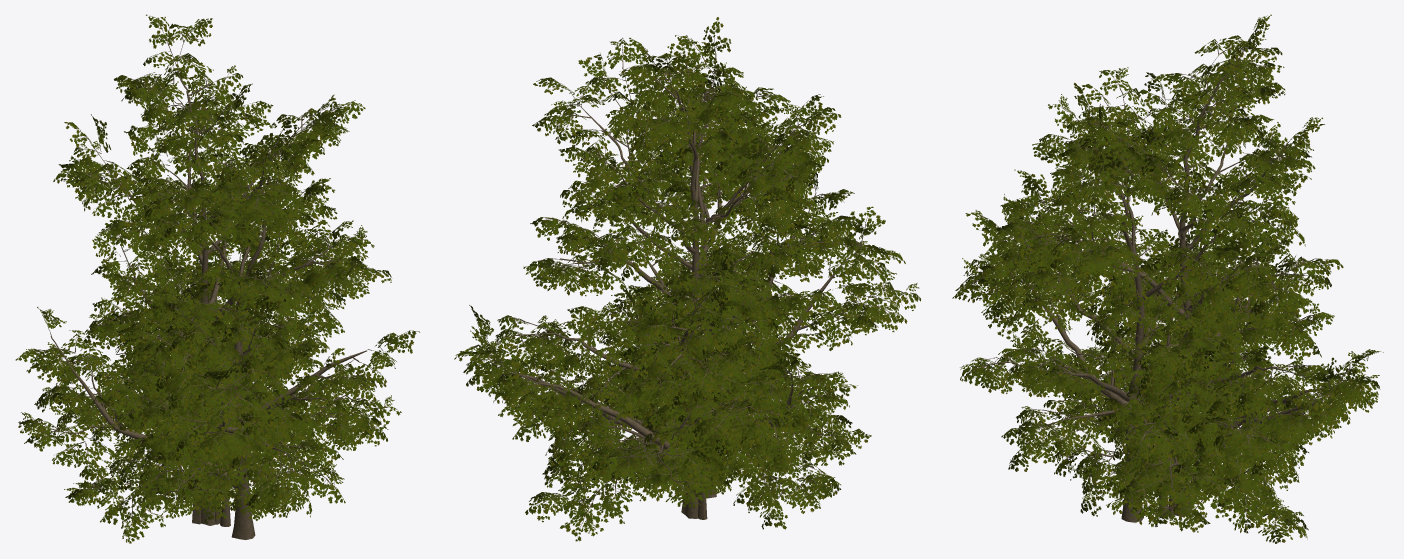
File: garden_maples.glb
3 renders of one model, left to right at view 1: azimuth 30°, elevation 25°; view 2: azimuth 150°, elevation 25°; view 3: azimuth 270°, elevation 25°, orthographic. The views are drawn at different scales.
Parts seen in each view (by area): view 1: Acer_large_2_LOD1_Cluster_Mat_0, Acer_large_1_LOD1_Cluster_Mat_0, Acer_medium_1_LOD1_Cluster_Mat_0, Acer_medium_2_LOD1_Cluster_Mat_0, Acer_large_1_LOD1_Bark_Mat_0, Acer_large_2_LOD1_Bark_Mat_0, Acer_small_2_LOD1_Cluster_Mat_0, Acer_medium_1_LOD1_Bark_Mat_0; view 2: Acer_large_2_LOD1_Cluster_Mat_0, Acer_large_1_LOD1_Cluster_Mat_0, Acer_medium_1_LOD1_Cluster_Mat_0, Acer_medium_2_LOD1_Cluster_Mat_0, Acer_large_2_LOD1_Bark_Mat_0, Acer_large_1_LOD1_Bark_Mat_0, Acer_small_2_LOD1_Cluster_Mat_0; view 3: Acer_large_2_LOD1_Cluster_Mat_0, Acer_large_1_LOD1_Cluster_Mat_0, Acer_medium_1_LOD1_Cluster_Mat_0, Acer_medium_2_LOD1_Cluster_Mat_0, Acer_large_2_LOD1_Bark_Mat_0, Acer_large_1_LOD1_Bark_Mat_0, Acer_medium_1_LOD1_Bark_Mat_0, Acer_small_2_LOD1_Cluster_Mat_0.
Boxes of the visible parts, x1=… form: Acer_large_2_LOD1_Cluster_Mat_0: x1=53, y1=14, x2=386, y2=511; Acer_large_1_LOD1_Cluster_Mat_0: x1=15, y1=133, x2=419, y2=543; Acer_medium_1_LOD1_Cluster_Mat_0: x1=109, y1=259, x2=338, y2=520; Acer_medium_2_LOD1_Cluster_Mat_0: x1=99, y1=249, x2=302, y2=497; Acer_large_1_LOD1_Bark_Mat_0: x1=46, y1=173, x2=366, y2=539; Acer_large_2_LOD1_Bark_Mat_0: x1=91, y1=41, x2=353, y2=525; Acer_small_2_LOD1_Cluster_Mat_0: x1=172, y1=403, x2=278, y2=523; Acer_medium_1_LOD1_Bark_Mat_0: x1=131, y1=272, x2=311, y2=526; Acer_large_2_LOD1_Cluster_Mat_0: x1=477, y1=17, x2=920, y2=507; Acer_large_1_LOD1_Cluster_Mat_0: x1=454, y1=52, x2=905, y2=541; Acer_medium_1_LOD1_Cluster_Mat_0: x1=545, y1=252, x2=809, y2=502; Acer_medium_2_LOD1_Cluster_Mat_0: x1=592, y1=252, x2=799, y2=466; Acer_large_2_LOD1_Bark_Mat_0: x1=512, y1=59, x2=867, y2=518; Acer_large_1_LOD1_Bark_Mat_0: x1=492, y1=93, x2=858, y2=504; Acer_small_2_LOD1_Cluster_Mat_0: x1=633, y1=399, x2=750, y2=496; Acer_large_2_LOD1_Cluster_Mat_0: x1=960, y1=14, x2=1380, y2=483; Acer_large_1_LOD1_Cluster_Mat_0: x1=952, y1=67, x2=1383, y2=543; Acer_medium_1_LOD1_Cluster_Mat_0: x1=1052, y1=247, x2=1288, y2=516; Acer_medium_2_LOD1_Cluster_Mat_0: x1=1073, y1=227, x2=1275, y2=464; Acer_large_2_LOD1_Bark_Mat_0: x1=994, y1=48, x2=1345, y2=516; Acer_large_1_LOD1_Bark_Mat_0: x1=991, y1=94, x2=1351, y2=522; Acer_medium_1_LOD1_Bark_Mat_0: x1=1076, y1=252, x2=1259, y2=517; Acer_small_2_LOD1_Cluster_Mat_0: x1=1114, y1=397, x2=1227, y2=502.
Size of the model in its own units: 18.69 by 24.05 by 19.56.
2 materials, 2 textured.
